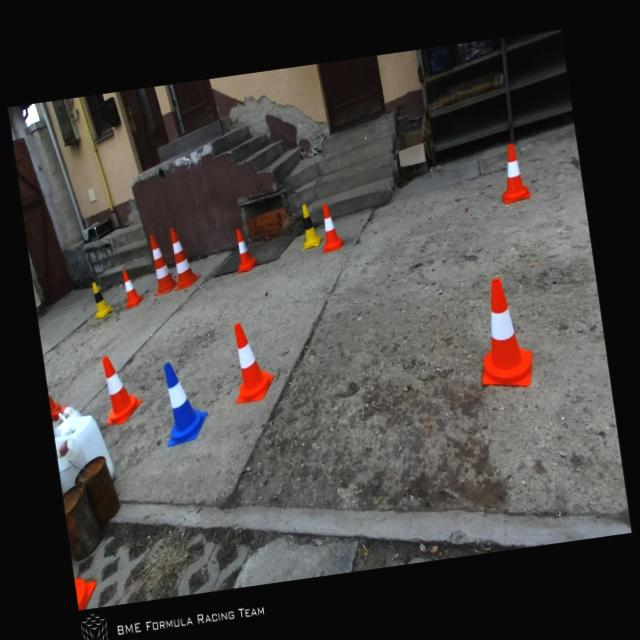blue_cone: (156, 358, 212, 447)
large_orange_cone: (165, 225, 202, 291), (146, 232, 180, 296)
orange_cone: (469, 276, 536, 392), (225, 320, 277, 404), (97, 352, 145, 426), (495, 142, 532, 204), (316, 200, 346, 253), (231, 227, 259, 274), (120, 268, 146, 308)
yellow_cone: (297, 203, 324, 250), (90, 280, 115, 318)
